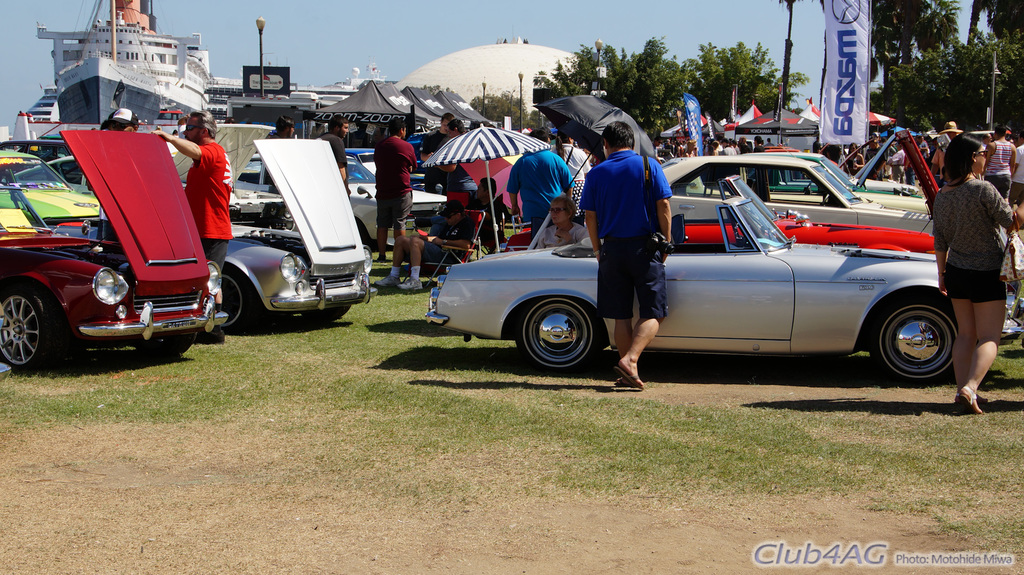Car: (0, 129, 1023, 382)
